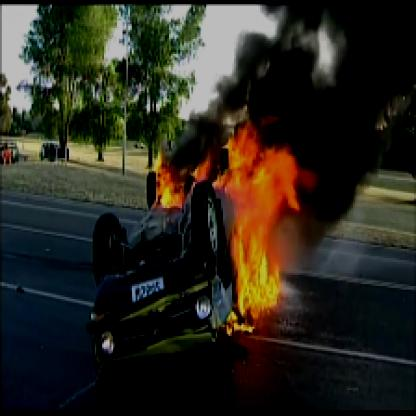Fire: (149, 102, 325, 338)
